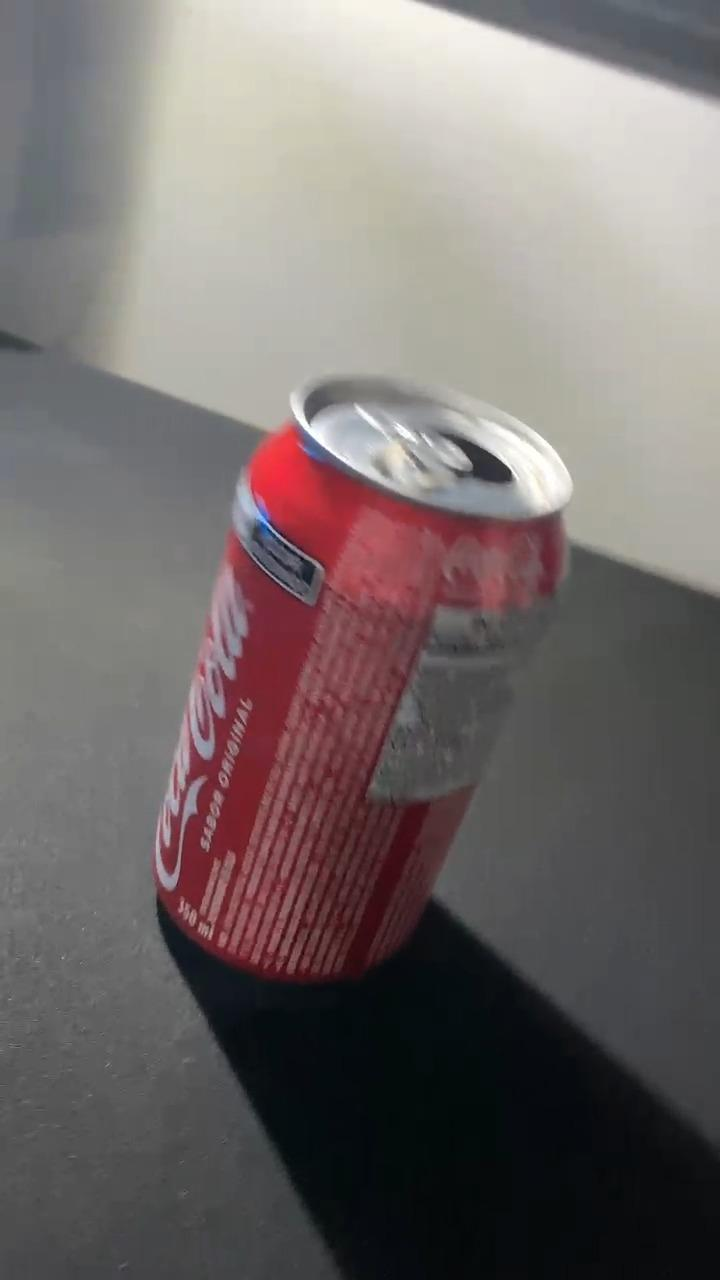coke: (144, 379, 571, 992)
